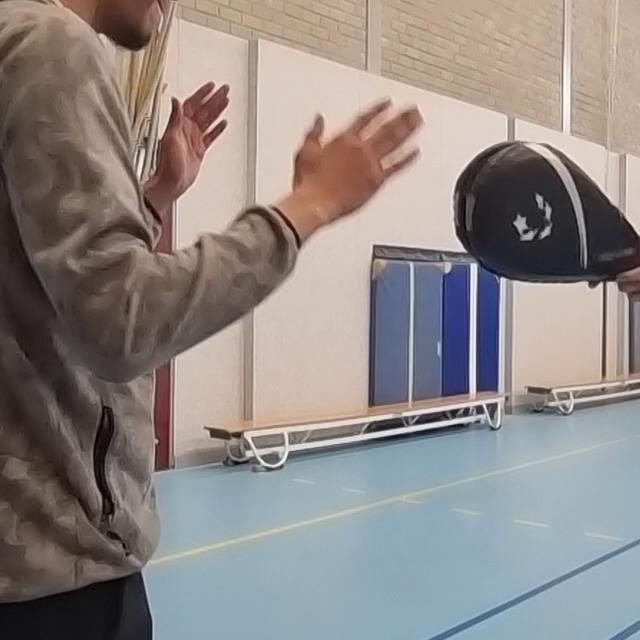paddle: (446, 128, 640, 297)
